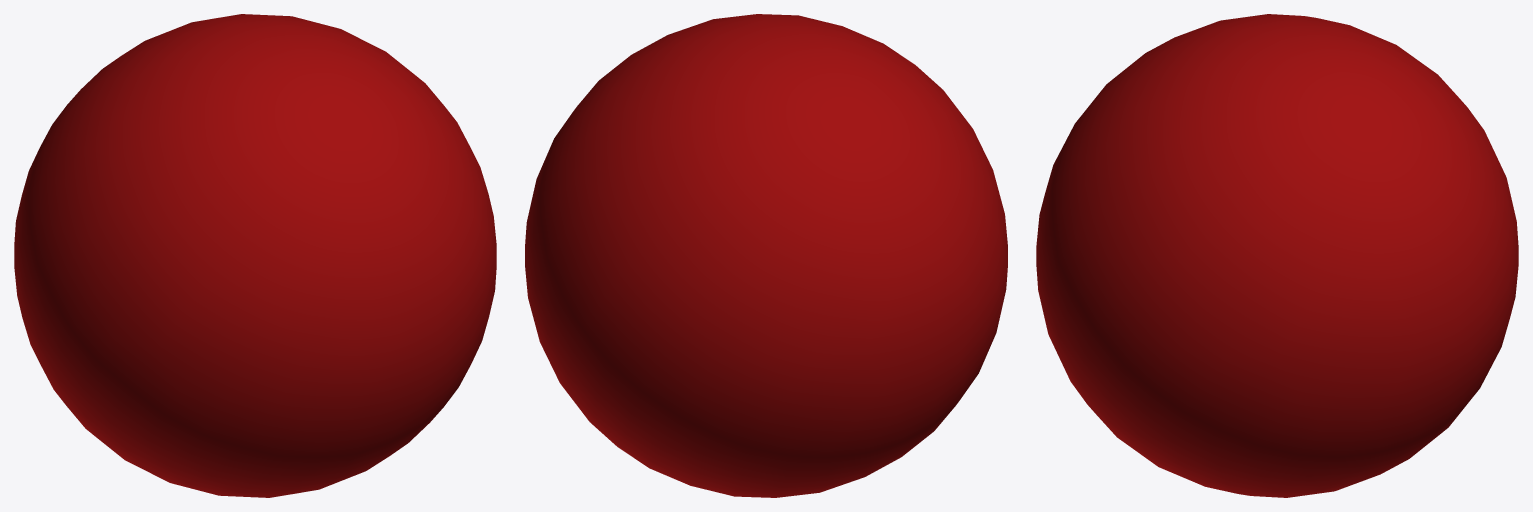
File: rubysphere.obj
3 views of the same model, side by side, from view 1: azimuth 30°, elevation 25°; view 2: azimuth 150°, elevation 25°; view 3: azimuth 270°, elevation 25° (orthographic).
Bounding box in the file's own units: 2 × 2 × 1.99.
